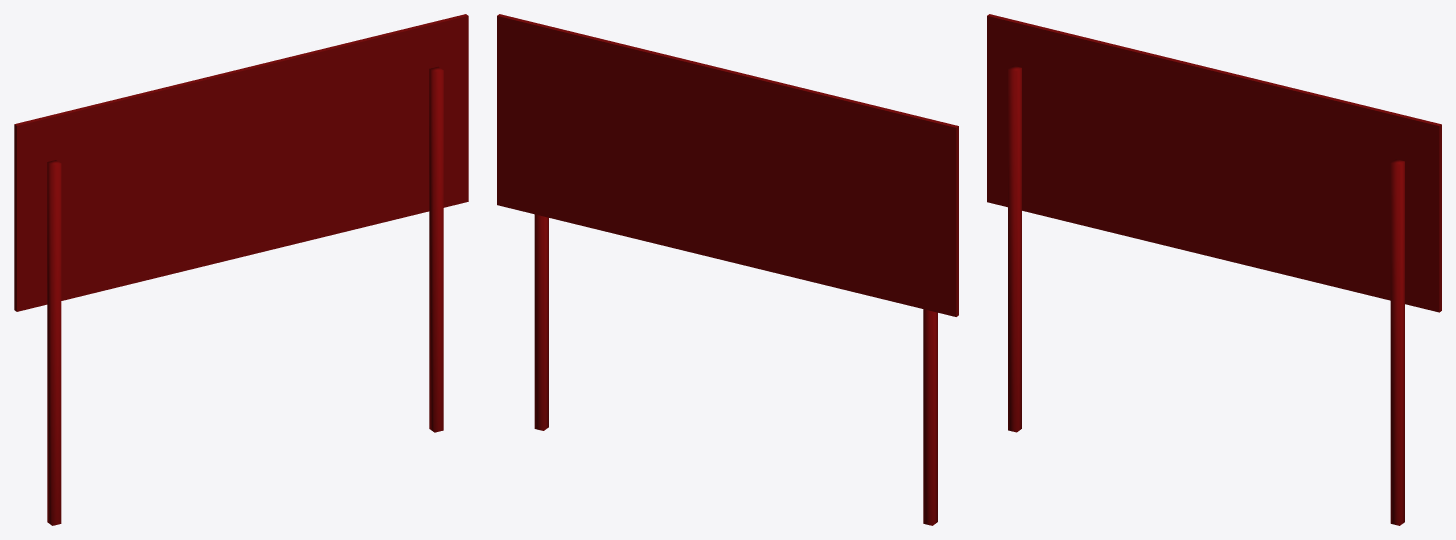
The model's file is SignPost.DAE.
3 renders of one model, left to right at view 1: azimuth 30°, elevation 25°; view 2: azimuth 150°, elevation 25°; view 3: azimuth 330°, elevation 25°, orthographic.
Visible parts, largest first — view 1: SignPost; view 2: SignPost; view 3: SignPost.
Part boxes in pixels (left/top/right/bottom): SignPost: left=14, top=14, right=468, bottom=525; SignPost: left=497, top=14, right=958, bottom=525; SignPost: left=987, top=14, right=1441, bottom=525.
Size of the model in its own units: 3.07 by 2.61 by 0.1159.
